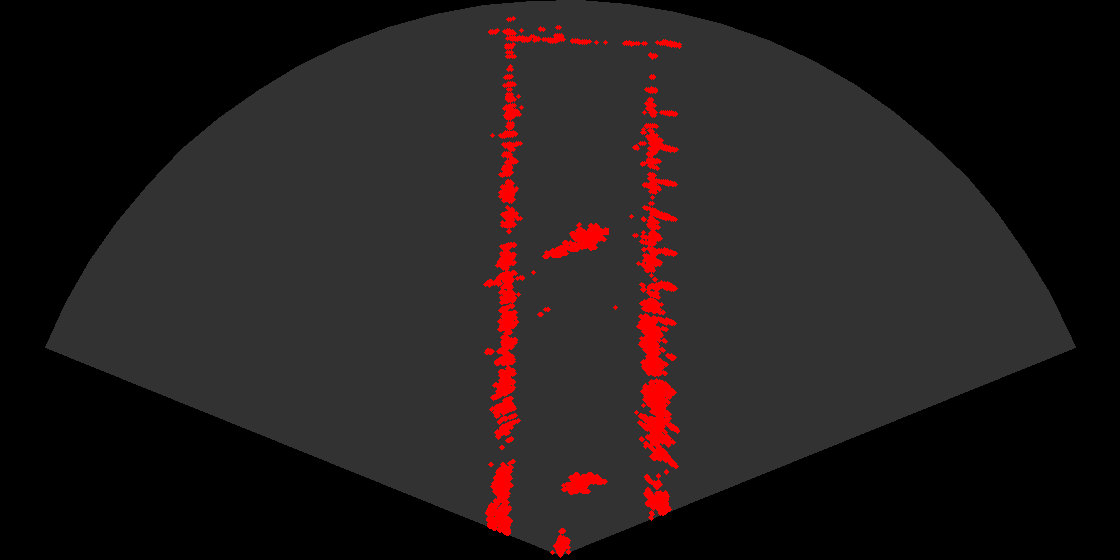AUV: (555, 470, 611, 502)
frogman: (541, 216, 609, 263)
